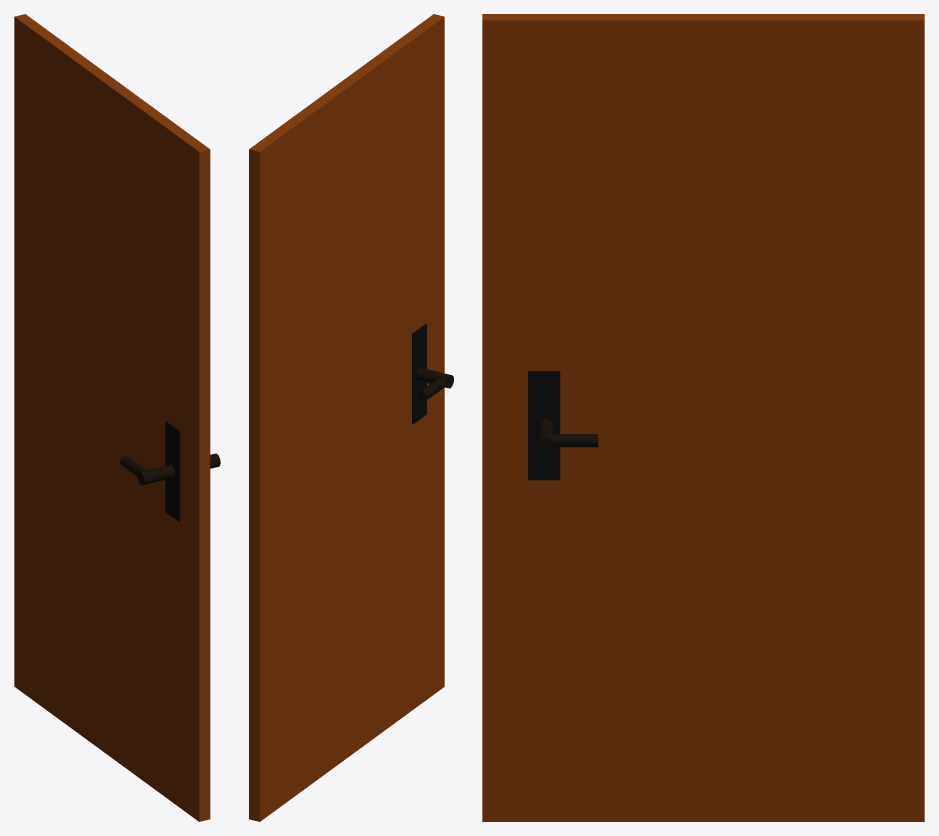
Rendered from door.dae.
3 renders of one model, left to right at view 1: azimuth 30°, elevation 25°; view 2: azimuth 150°, elevation 25°; view 3: azimuth 270°, elevation 25°, orthographic. The views are drawn at different scales.
Parts seen in each view (by area): view 1: Door, PalletFront, FrontHandle1; view 2: Door, PalletFront, FrontHandle1; view 3: Door, PalletBack.
Part boxes in pixels (box(x1,y1,x2,y2)): Door: box(14, 14, 210, 821); PalletFront: box(165, 421, 180, 521); FrontHandle1: box(137, 464, 174, 485); Door: box(249, 14, 444, 821); PalletFront: box(412, 324, 426, 424); FrontHandle1: box(416, 367, 453, 388); Door: box(482, 14, 924, 821); PalletBack: box(528, 371, 560, 480).
Size of the model in its own units: 7.85 by 32.99 by 65.97.
